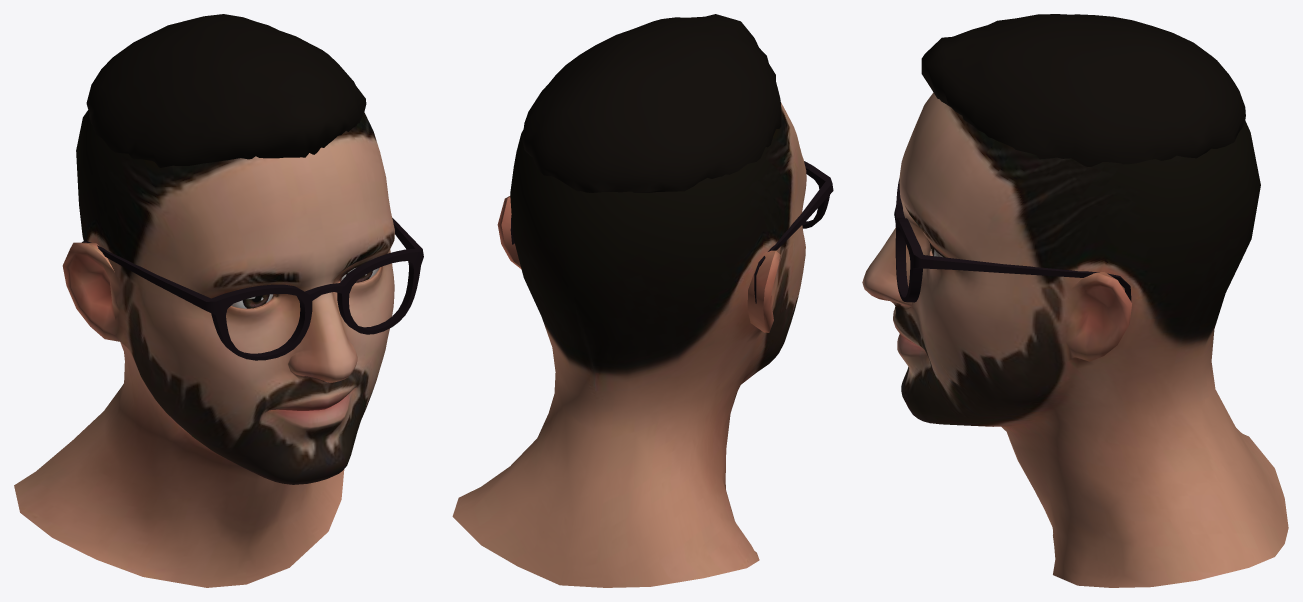
The picture shows the model from 3 angles, left to right: view 1: azimuth 30°, elevation 25°; view 2: azimuth 150°, elevation 25°; view 3: azimuth 270°, elevation 25°; orthographic projection. The views are drawn at different scales.
Parts seen in each view (by area): view 1: Wolf3D_Head, Wolf3D_Hair, Wolf3D_Glasses; view 2: Wolf3D_Head, Wolf3D_Hair, Wolf3D_Glasses; view 3: Wolf3D_Head, Wolf3D_Hair, Wolf3D_Glasses.
Part boxes in pixels (x1,y1,x2,y2): Wolf3D_Head: (14, 110, 394, 587); Wolf3D_Hair: (86, 14, 366, 167); Wolf3D_Glasses: (82, 218, 423, 360); Wolf3D_Head: (452, 102, 806, 587); Wolf3D_Hair: (522, 14, 781, 192); Wolf3D_Glasses: (510, 161, 833, 303); Wolf3D_Head: (862, 92, 1288, 587); Wolf3D_Hair: (921, 14, 1245, 166); Wolf3D_Glasses: (894, 178, 1131, 302).
Bounding box in the file's own units: 0.1919 × 0.3183 × 0.2299.
5 materials, 5 textured.
